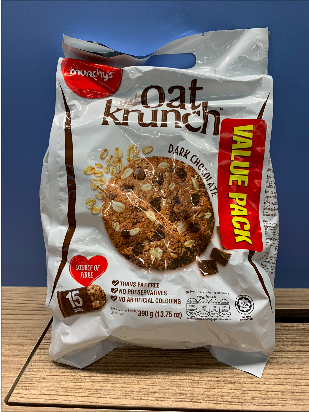Cookies_300-399g: (64, 65, 261, 337)
